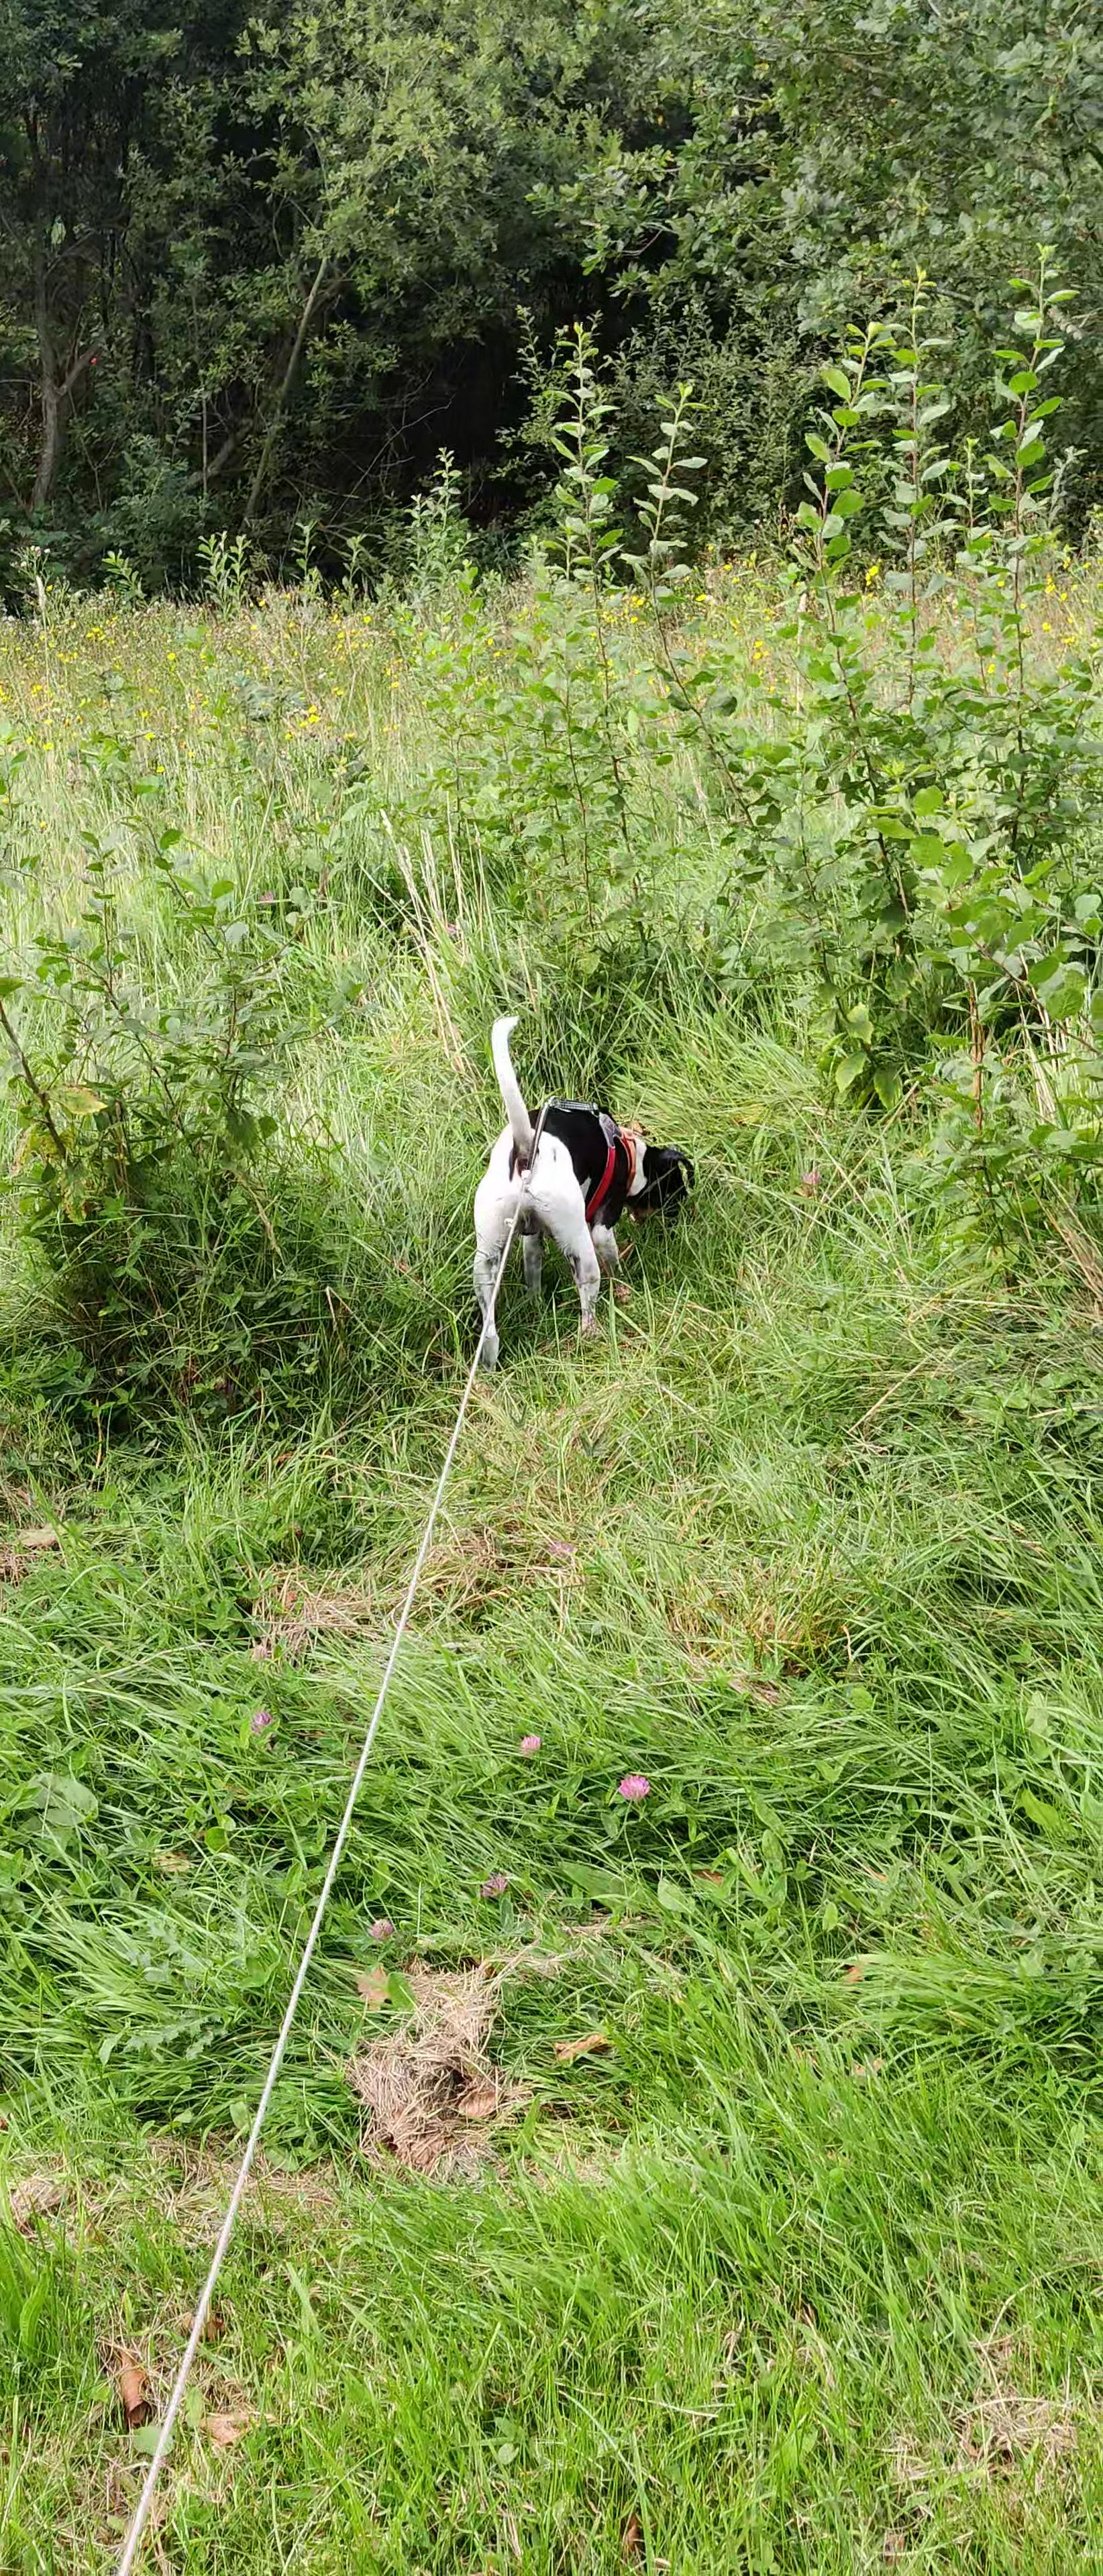Dog: (462, 1010, 700, 1368)
